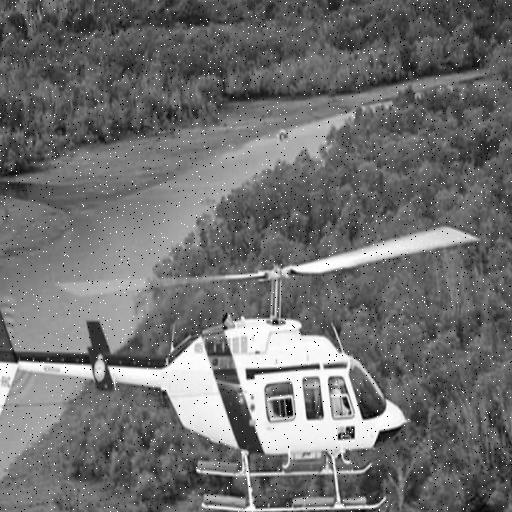helicopter: (1, 216, 476, 512)
